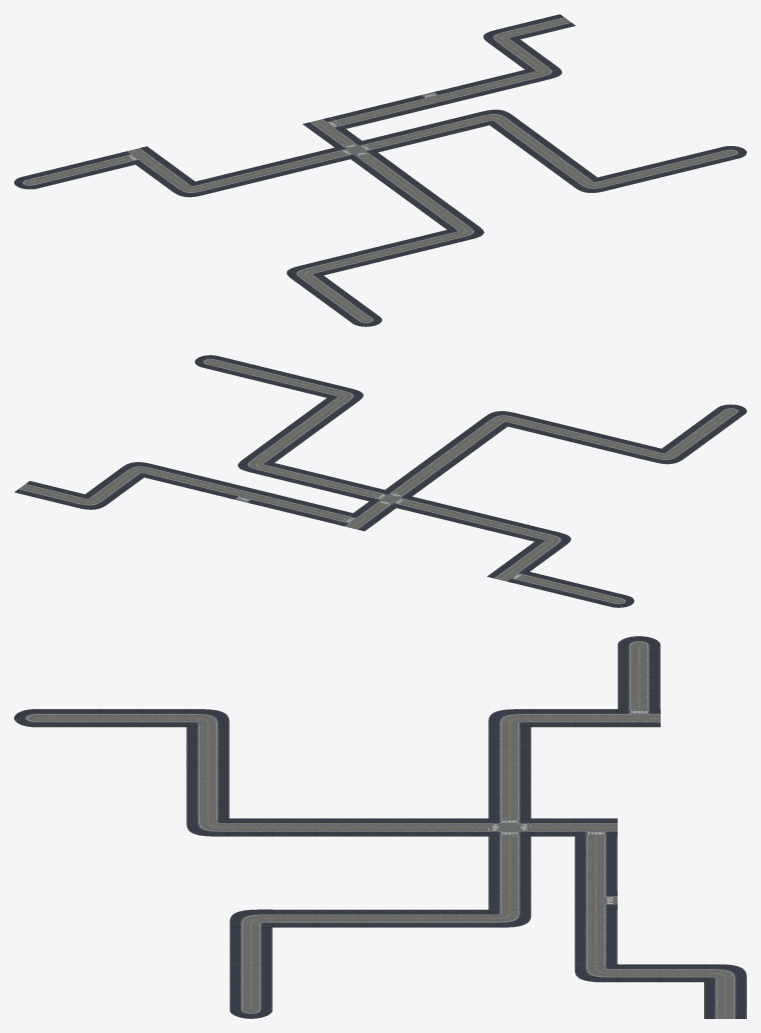
Rendered from m_idle_bg_road_a_03.fbx.
3 views of the same model, one above another, from view 1: azimuth 30°, elevation 25°; view 2: azimuth 150°, elevation 25°; view 3: azimuth 270°, elevation 25° (orthographic). The views are drawn at different scales.
Parts seen in each view (by area): view 1: m_idle_bg_road_a_03; view 2: m_idle_bg_road_a_03; view 3: m_idle_bg_road_a_03.
Boxes of the visible parts, left/top/right/bottom form: m_idle_bg_road_a_03: left=14, top=14, right=746, bottom=326; m_idle_bg_road_a_03: left=14, top=355, right=746, bottom=607; m_idle_bg_road_a_03: left=14, top=636, right=746, bottom=1018.
Size of the model in its own units: 525 by 0.000595 by 425.
